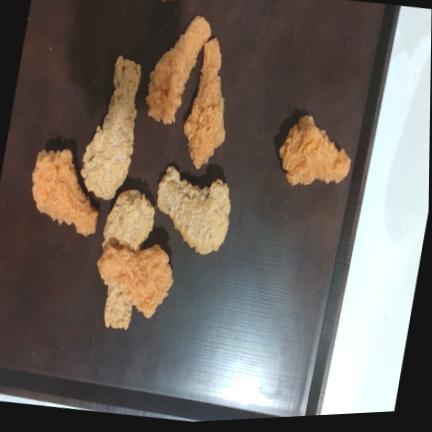chicken: (81, 57, 141, 200), (146, 16, 211, 124), (157, 166, 231, 254), (32, 149, 98, 236), (98, 244, 172, 318), (185, 38, 225, 169), (280, 116, 351, 185), (103, 189, 155, 251)
